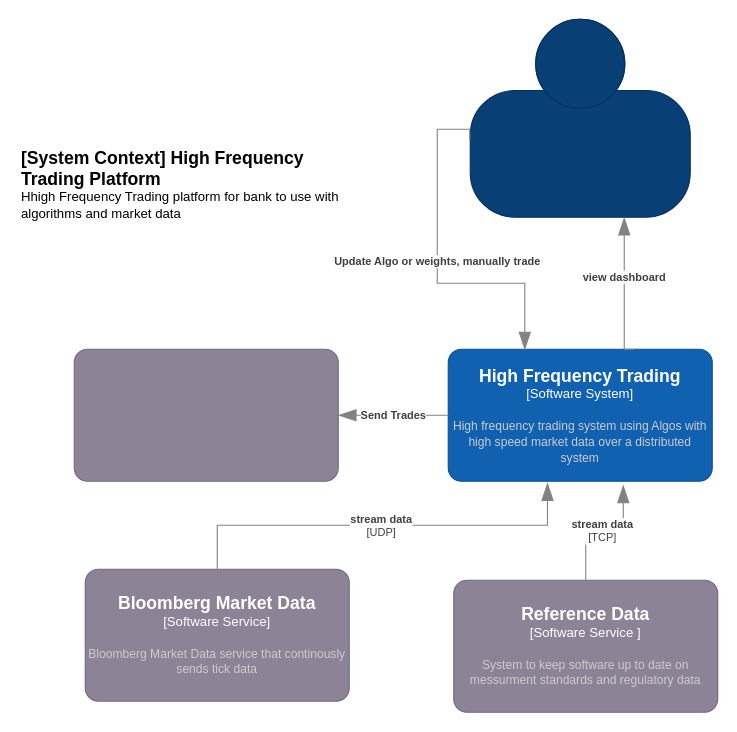
Image size: 737x732. Some labels were removed from this diagram. The shapes that lost their labels are listed below. From the top down, each one's centre as x and y in pixels, then its label:
At (x=579, y=117): "Bank Employee or SEC [Person] Trader/Algorithmist".
At (x=205, y=414): "Stock Exchange [Software System] NASDAQ, NYSE, TYO, LSE...".
